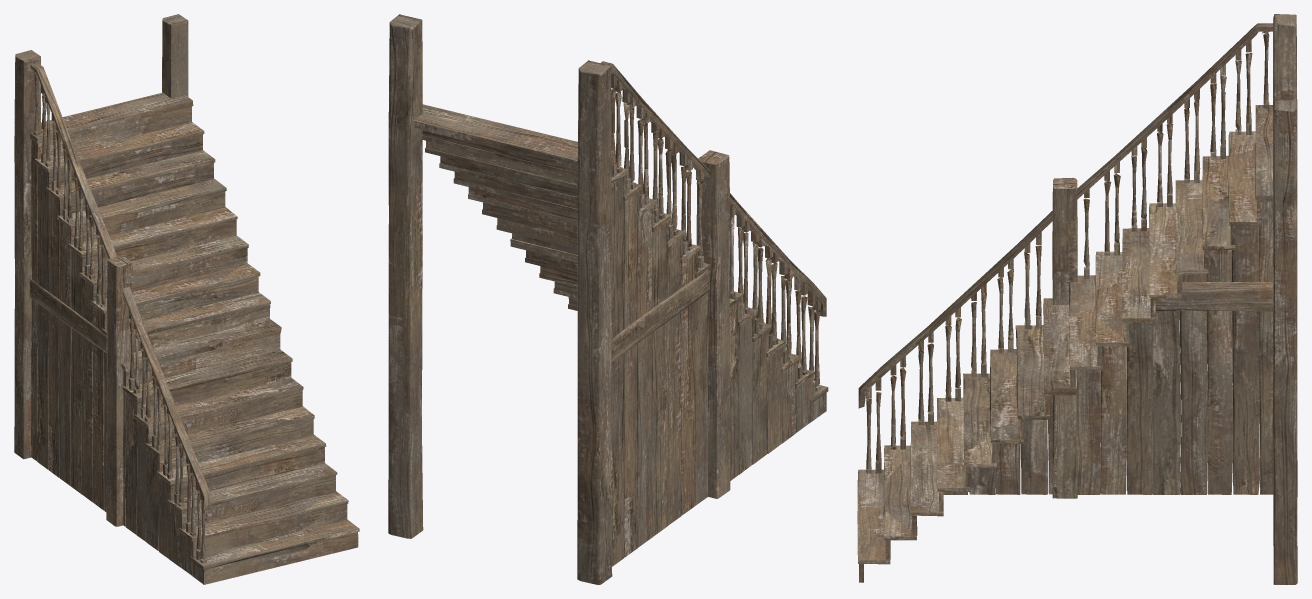
Rendered from SM_Staircase.fbx.
3 renders of one model, left to right at view 1: azimuth 30°, elevation 25°; view 2: azimuth 150°, elevation 25°; view 3: azimuth 270°, elevation 25°, orthographic. The views are drawn at different scales.
Visible parts, largest first — view 1: SM_Staircase_LOD0; view 2: SM_Staircase_LOD0; view 3: SM_Staircase_LOD0.
Part boxes in pixels (x1,y1,x2,y2): SM_Staircase_LOD0: [14, 14, 359, 584]; SM_Staircase_LOD0: [388, 14, 828, 584]; SM_Staircase_LOD0: [857, 14, 1297, 584].
Size of the model in its own units: 215 by 414 by 493.
